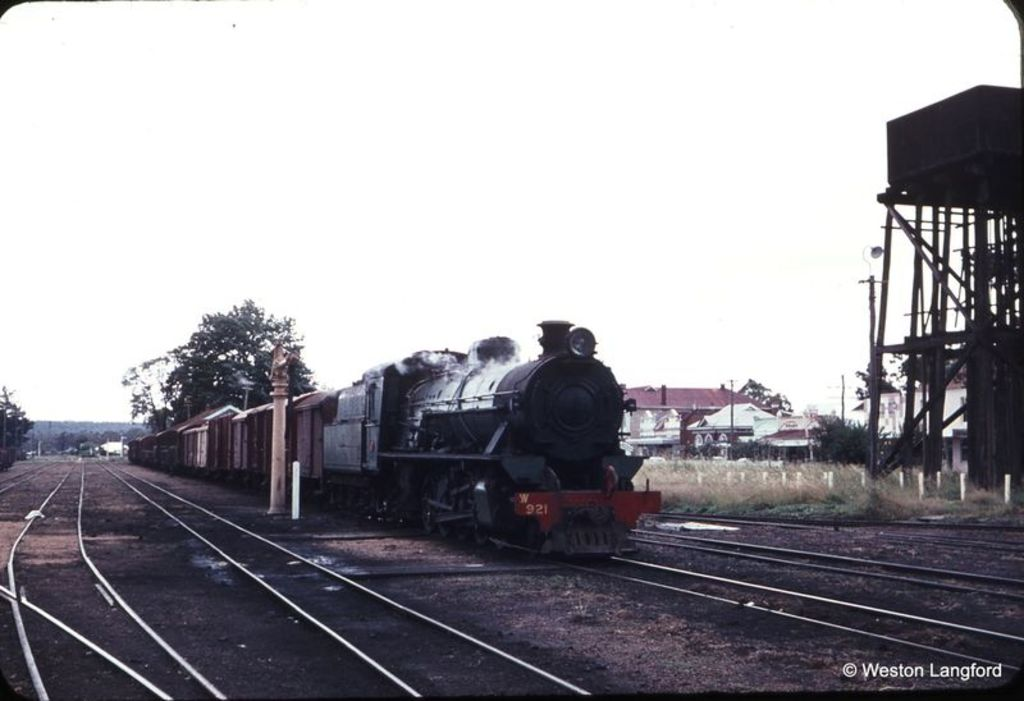train: (125, 322, 665, 548)
